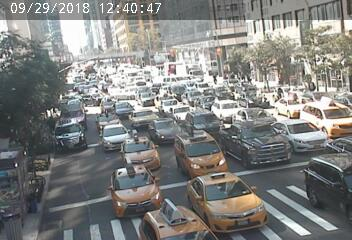car: (189, 178, 256, 223), (107, 163, 154, 208), (139, 196, 187, 240), (309, 157, 352, 200), (304, 101, 352, 138), (178, 137, 227, 173), (233, 123, 278, 161), (54, 126, 94, 154), (285, 120, 320, 150), (239, 78, 269, 112), (185, 111, 220, 140), (121, 138, 157, 166), (245, 109, 279, 128), (278, 95, 303, 118), (101, 126, 128, 147), (152, 119, 179, 140), (131, 109, 159, 126), (216, 102, 239, 121), (61, 101, 85, 119), (157, 94, 179, 113), (94, 116, 122, 130), (168, 105, 190, 122), (198, 96, 218, 110), (138, 87, 154, 104), (113, 102, 132, 115), (160, 76, 177, 87), (182, 91, 197, 102)
